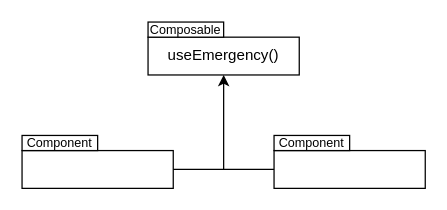
Some shapes in this 447 by 210 pixel diagram are drawn without their labels. Each missing label, with the centre of its shape:
Emergency View: [97,168]
Sidebar Navigation: [349,168]
